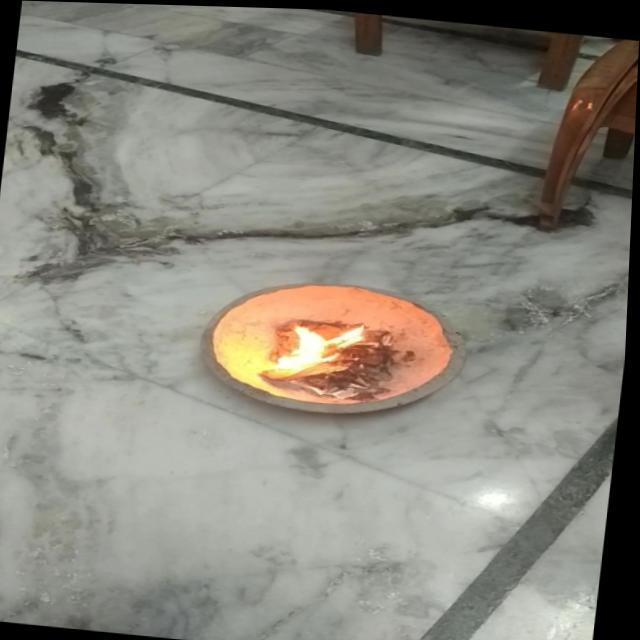fire: (265, 313, 376, 380)
